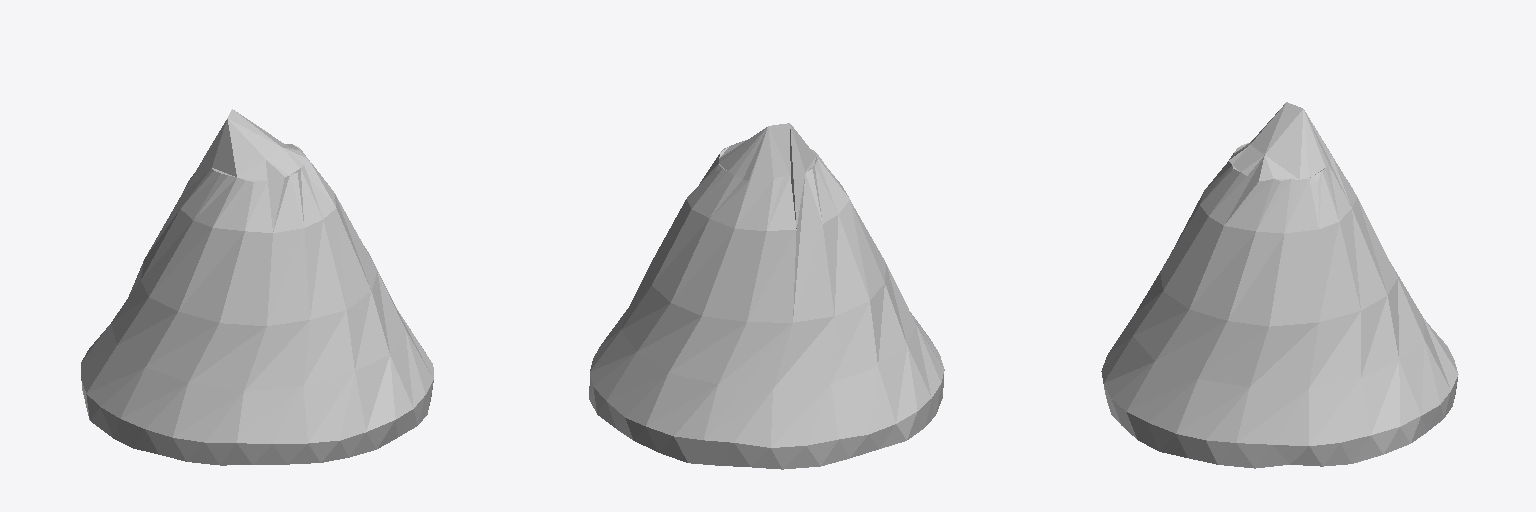
Rendered from Bubblegum Icecream.obj.
3 views of the same model, side by side, from view 1: azimuth 30°, elevation 25°; view 2: azimuth 150°, elevation 25°; view 3: azimuth 270°, elevation 25° (orthographic).
Parts seen in each view (by area): view 1: Bubblegum_Icecream; view 2: Bubblegum_Icecream; view 3: Bubblegum_Icecream.
Boxes of the visible parts, x1,y1,x2,y2 form: Bubblegum_Icecream: [81, 109, 433, 465]; Bubblegum_Icecream: [589, 123, 944, 469]; Bubblegum_Icecream: [1101, 102, 1458, 468].
Bounding box in the file's own units: 0.093 × 0.0825 × 0.0943.